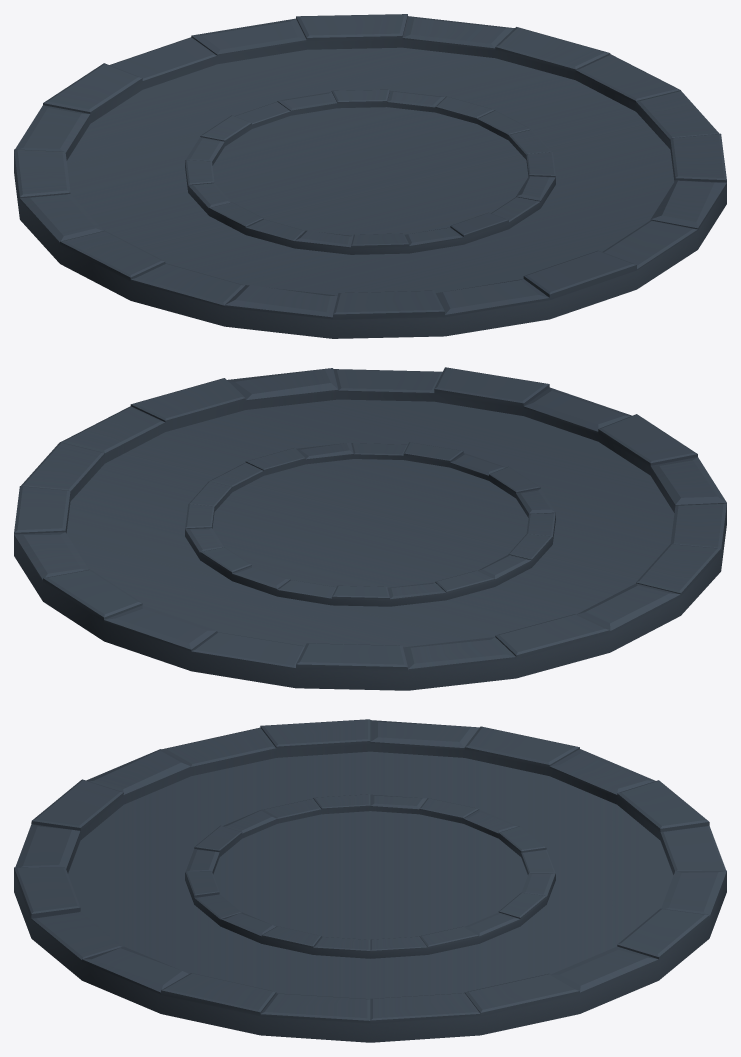
3 renders of one model, top to bottom at view 1: azimuth 30°, elevation 25°; view 2: azimuth 150°, elevation 25°; view 3: azimuth 270°, elevation 25°, orthographic.
Visible parts, largest first — view 1: CircularPlatform; view 2: CircularPlatform; view 3: CircularPlatform.
Part boxes in pixels (x1,y1,x2,y2): CircularPlatform: [14, 14, 726, 338]; CircularPlatform: [14, 367, 726, 690]; CircularPlatform: [14, 719, 726, 1042].
Size of the model in its own units: 4.9 by 0.1939 by 4.9.
Materials: 1 (1 with a texture image).
